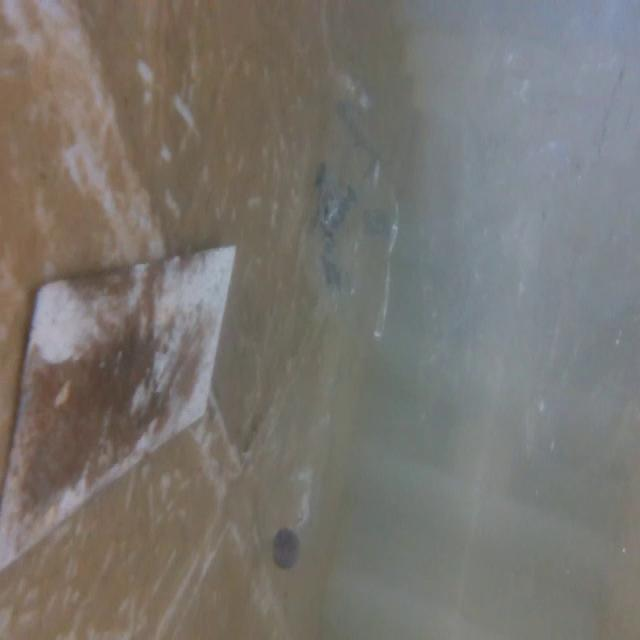metal: (0, 236, 242, 568)
plastic bags: (412, 6, 610, 471), (298, 73, 401, 358)
plastic bottle: (268, 381, 334, 572)
